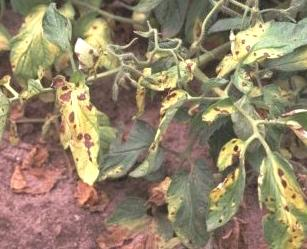Tomato Early blight leaf: (206, 12, 307, 85), (251, 149, 304, 249), (202, 139, 256, 227), (58, 76, 97, 181), (132, 92, 186, 164)
